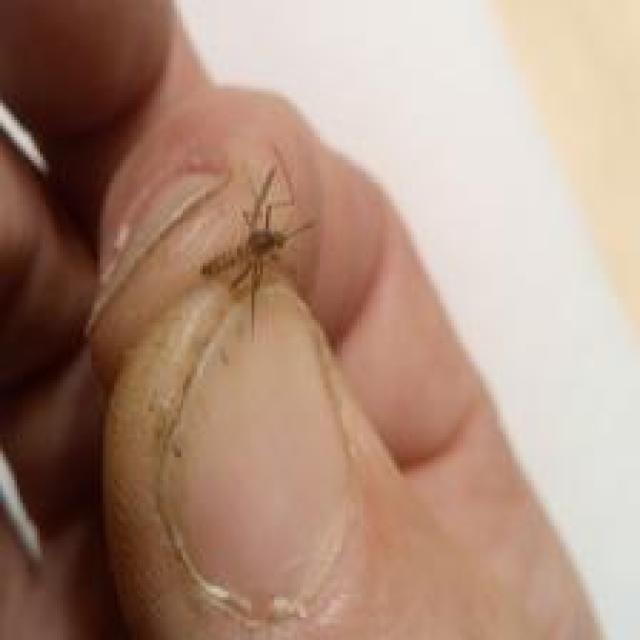Culex: (198, 166, 318, 337)
